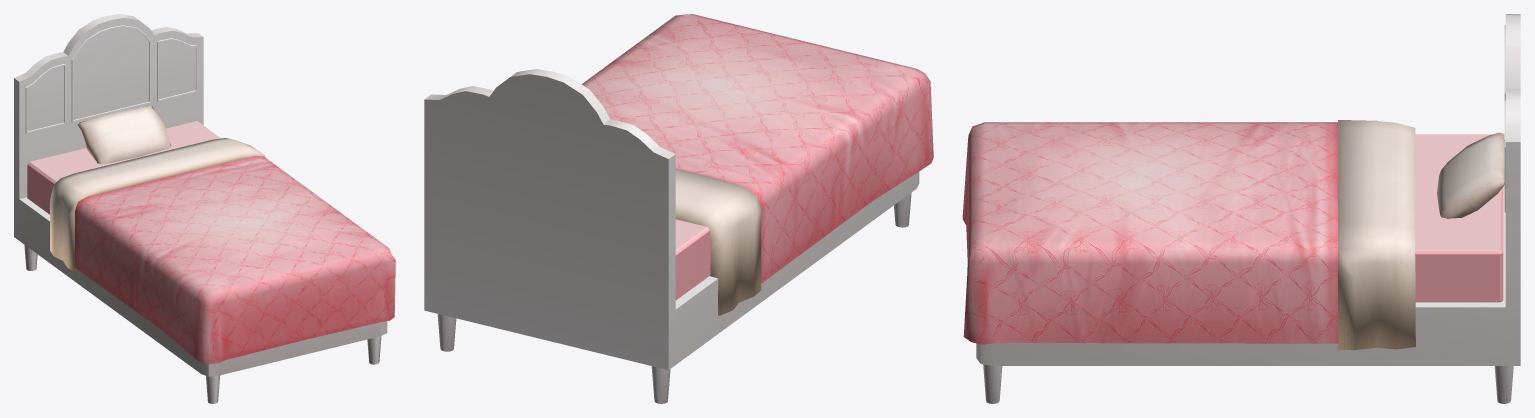
File: Doll_OB_Bed_001.FBX
3 views of the same model, side by side, from view 1: azimuth 30°, elevation 25°; view 2: azimuth 150°, elevation 25°; view 3: azimuth 270°, elevation 25° (orthographic). The views are drawn at different scales.
Parts seen in each view (by area): view 1: Doll_OB_Bed_001, Doll_OB_Bed_001_1; view 2: Doll_OB_Bed_001, Doll_OB_Bed_001_1; view 3: Doll_OB_Bed_001, Doll_OB_Bed_001_1.
Boxes of the visible parts, left/top/right/bottom form: Doll_OB_Bed_001: left=14, top=14, right=395, bottom=403; Doll_OB_Bed_001_1: left=50, top=138, right=265, bottom=271; Doll_OB_Bed_001: left=424, top=14, right=933, bottom=403; Doll_OB_Bed_001_1: left=675, top=168, right=761, bottom=315; Doll_OB_Bed_001: left=962, top=14, right=1520, bottom=403; Doll_OB_Bed_001_1: left=1338, top=120, right=1415, bottom=350.
Bounding box in the file's own units: 121 × 134 × 210.
